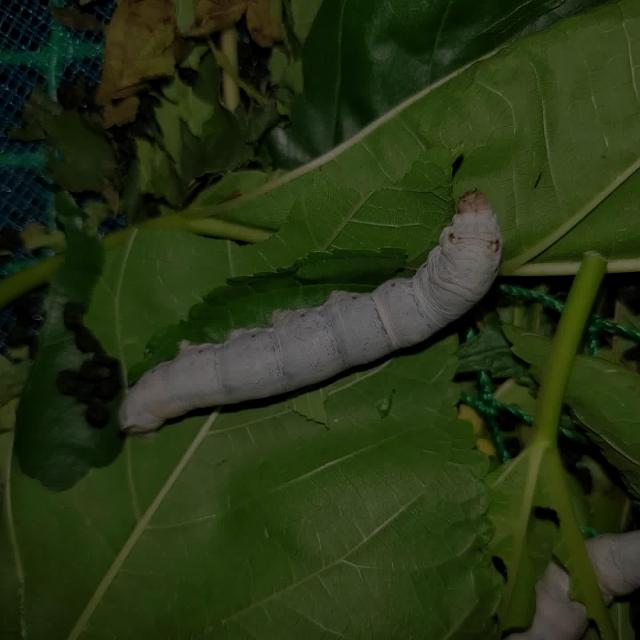Healthy: (111, 188, 523, 442)
